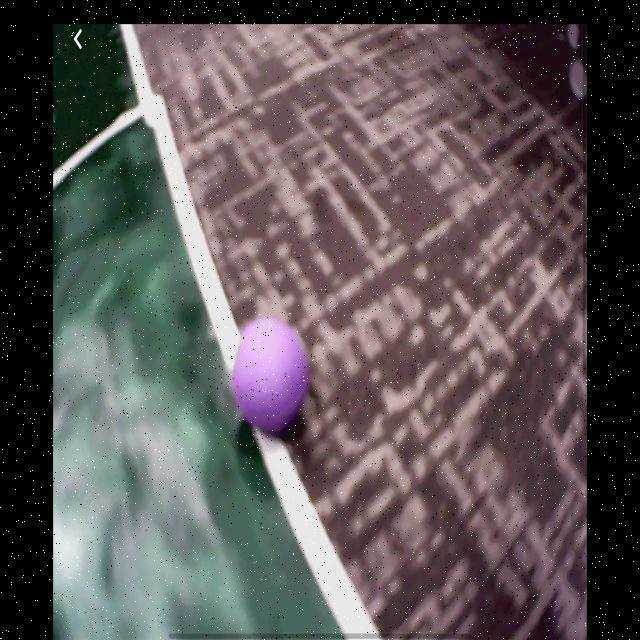ball: (230, 315, 310, 436)
